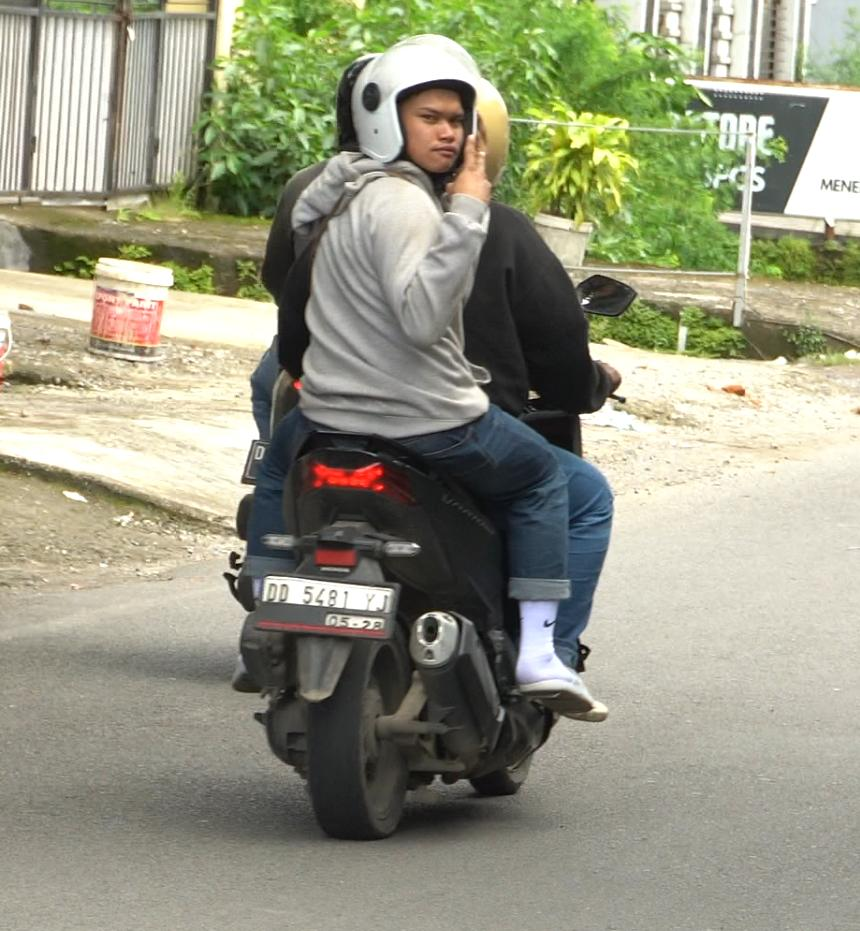number-plate: (255, 573, 399, 642)
